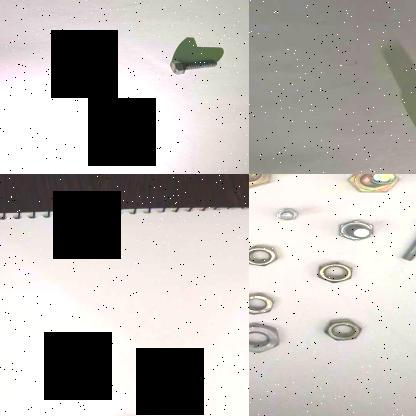Bolts: (341, 174, 407, 198), (324, 215, 380, 243), (168, 53, 220, 77), (394, 217, 416, 263), (268, 203, 301, 223)
NUTS: (322, 315, 372, 347), (249, 318, 284, 356), (306, 261, 354, 287), (249, 288, 278, 316), (249, 244, 282, 268)
